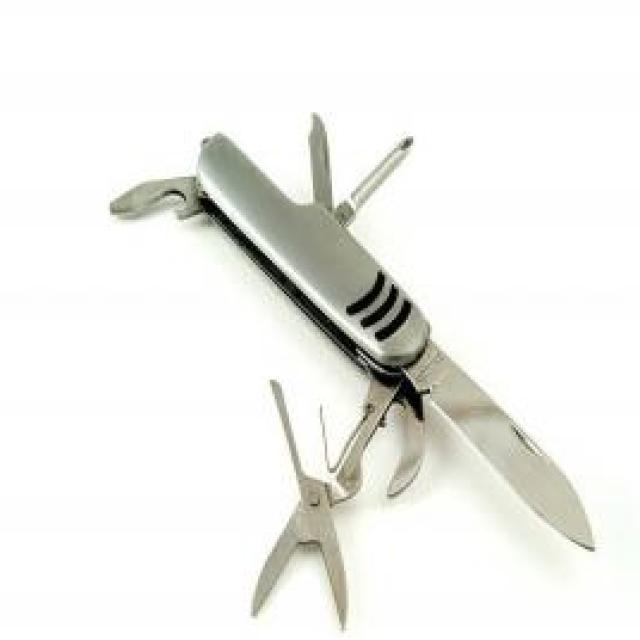knife: (344, 277, 603, 558), (274, 124, 430, 233), (93, 170, 237, 232), (289, 91, 343, 234)
